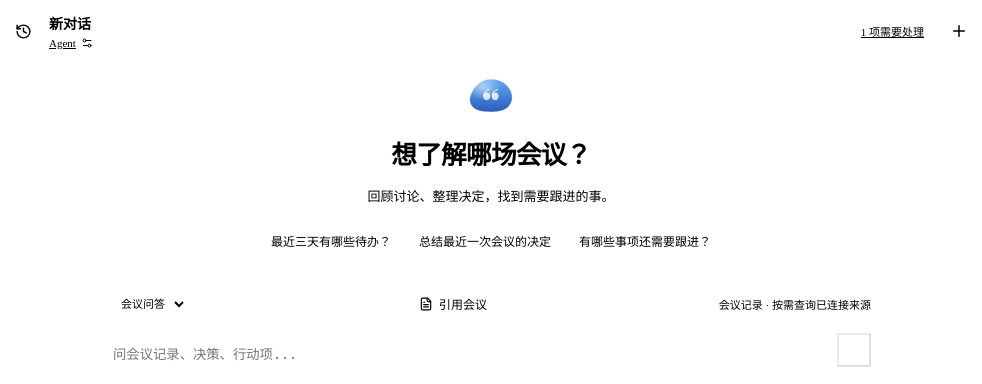
AgentConsole › renders Ask Meeting answers as Markdown
Type "总结一下" into the text box with placeholder "问会议记录、决策、行动项...". click: [470, 355]
box: [111, 343, 829, 367]
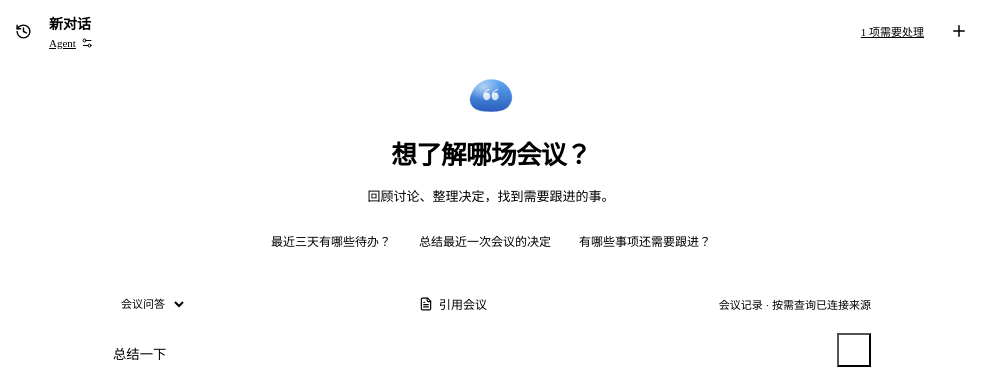
Click the button named "发送". click: [854, 350]
box: [837, 333, 871, 367]
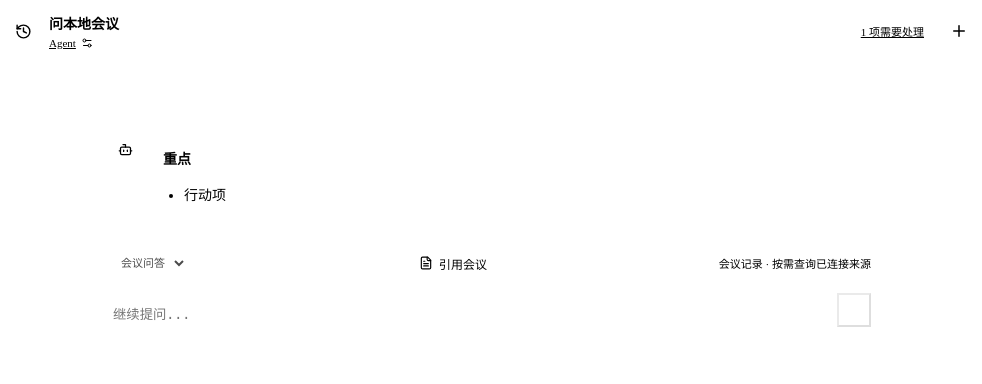
Check: the text "重点" is shown, box [163, 152, 191, 167]
Check: the list item "行动项" is shown, box [184, 184, 226, 209]
